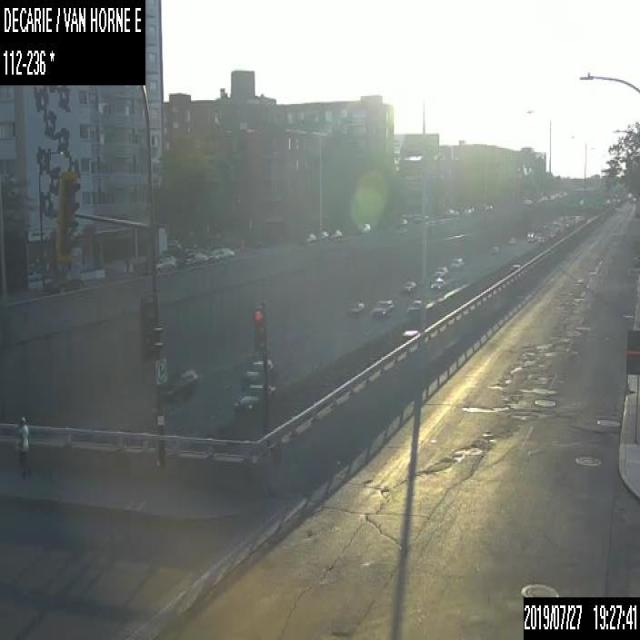pedestrian: (13, 416, 29, 479)
vehicle: (161, 363, 197, 402), (232, 383, 275, 412), (42, 271, 82, 292), (244, 359, 273, 382), (370, 298, 394, 318), (205, 247, 234, 263), (184, 251, 208, 266), (153, 255, 175, 271), (346, 298, 364, 317), (398, 278, 417, 294), (406, 296, 420, 315), (297, 233, 316, 245), (428, 276, 444, 290), (449, 256, 464, 269), (434, 265, 447, 278), (356, 222, 370, 234), (328, 228, 342, 239), (316, 230, 327, 243), (527, 230, 536, 242), (489, 245, 498, 253), (508, 235, 516, 243)
